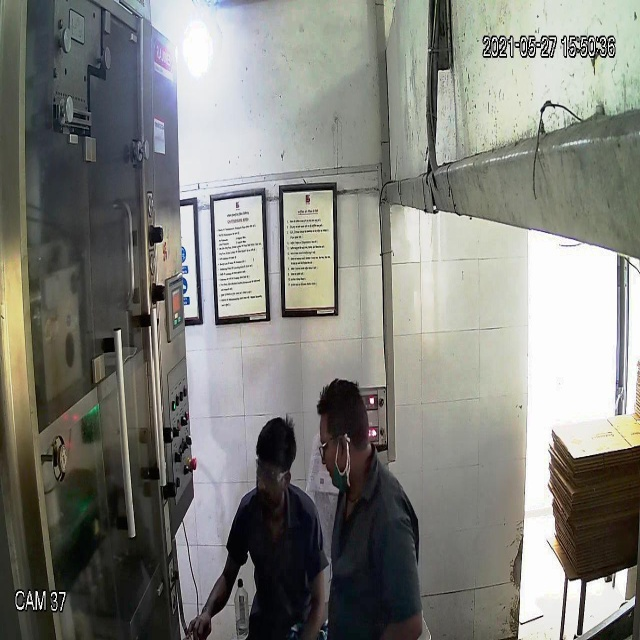Gafas: (252, 456, 295, 488)
